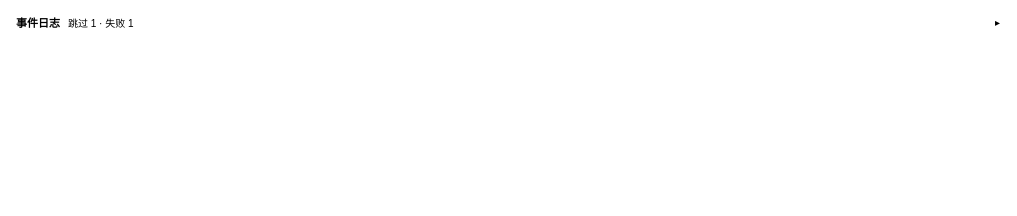
Test: Side Panel cockpit components › expands the event log, filters events, and clears
Later steps or results of the test are not shown.
Expected: the text "跳过 1 · 失败 1" is shown, [68, 14, 134, 30]
What coordinates should you click on to do the following:
click the text "事件日志"
I would click on:
 (38, 22)
Its box is [16, 14, 60, 30].
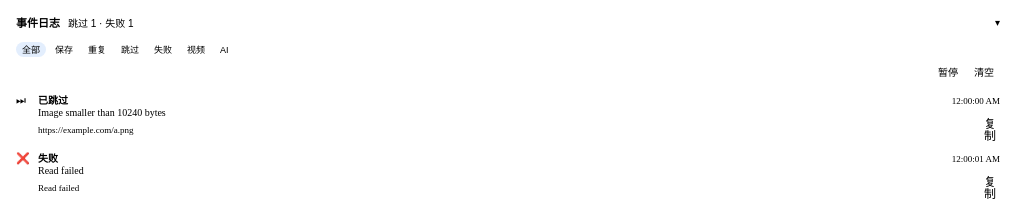
Expected: the text "Image smaller than 10240 bytes" is shown, [38, 107, 166, 118]
Expected: the 1st text "Read failed" is shown, [38, 165, 84, 176]
What coordinates should you click on to do the following:
click the button "失败"
I would click on:
 (163, 50)
Its box is [148, 42, 178, 57].
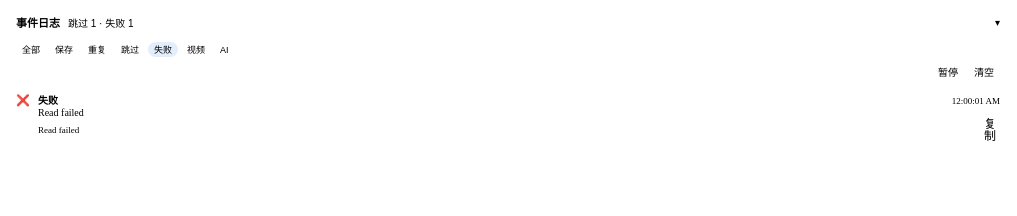
Expected: the text "Image smaller than 10240 bytes" is gone
